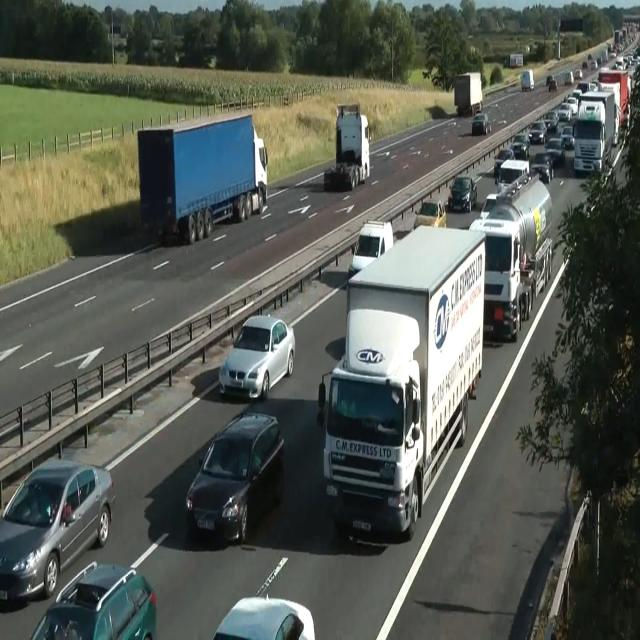bus: (0, 457, 116, 607), (30, 561, 156, 639), (218, 314, 295, 401), (212, 594, 315, 639), (496, 159, 530, 192), (447, 175, 477, 212), (414, 200, 446, 228), (530, 152, 554, 183), (494, 147, 514, 180), (544, 136, 566, 165), (510, 133, 530, 159), (472, 113, 492, 135), (528, 121, 546, 144), (560, 124, 574, 150), (542, 110, 558, 131), (556, 102, 572, 122), (566, 96, 578, 116), (205, 56, 217, 68), (564, 70, 574, 84), (548, 78, 557, 92), (574, 69, 582, 79)
car: (468, 171, 554, 341)
jeep: (185, 408, 284, 544)
minibus: (317, 224, 486, 540), (137, 112, 268, 245), (323, 103, 370, 190), (573, 90, 615, 174), (348, 220, 393, 282), (597, 67, 630, 145), (453, 71, 482, 117), (520, 70, 534, 92), (509, 52, 523, 68)
